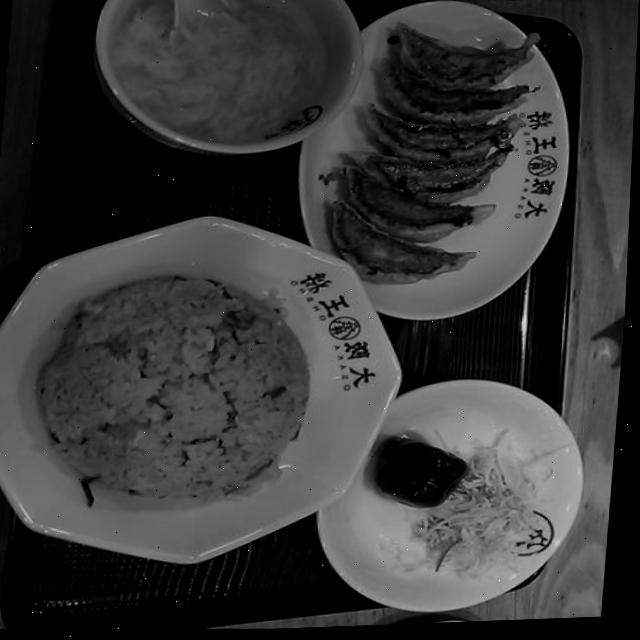带馅早点: (278, 0, 593, 341)
汤锅炖物: (91, 0, 365, 170)
米饭主食: (0, 203, 422, 589)
